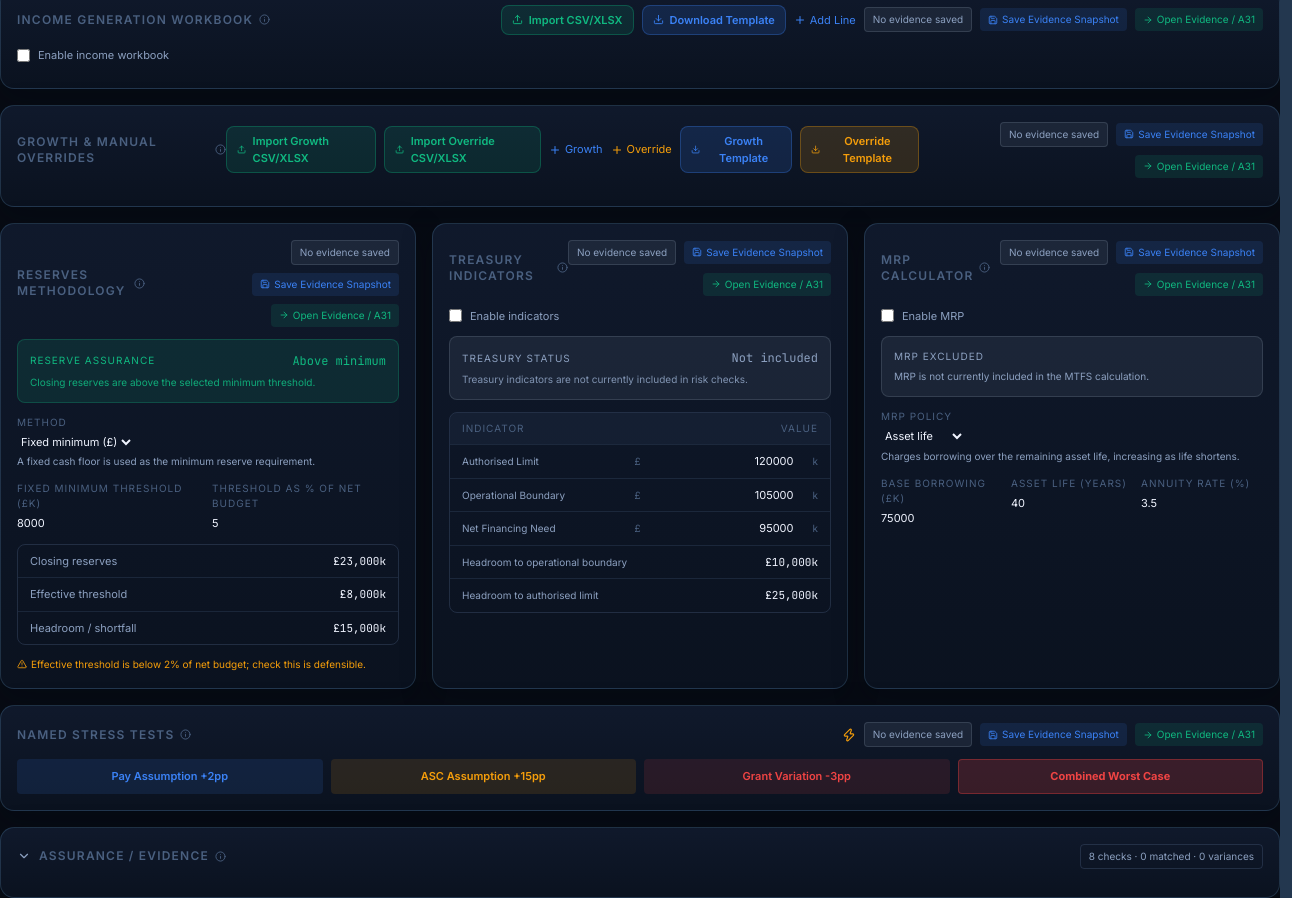
Test: EnhancementPanel helpers › moves source reconciliation behind assurance and advanced setup accordions
(page scrolled)
Check: the heading "Assurance / Evidence" is shown, box [39,848,209,864]
Check: the text "8 checks · 0 matched · 0 variances" is shown, box [1080,844,1263,869]
What coordinates should you click on to do the following:
click the button "Assurance / Evidence"
I would click on:
 (121, 856)
Its box is [17,848,226,864].
(page scrolled)
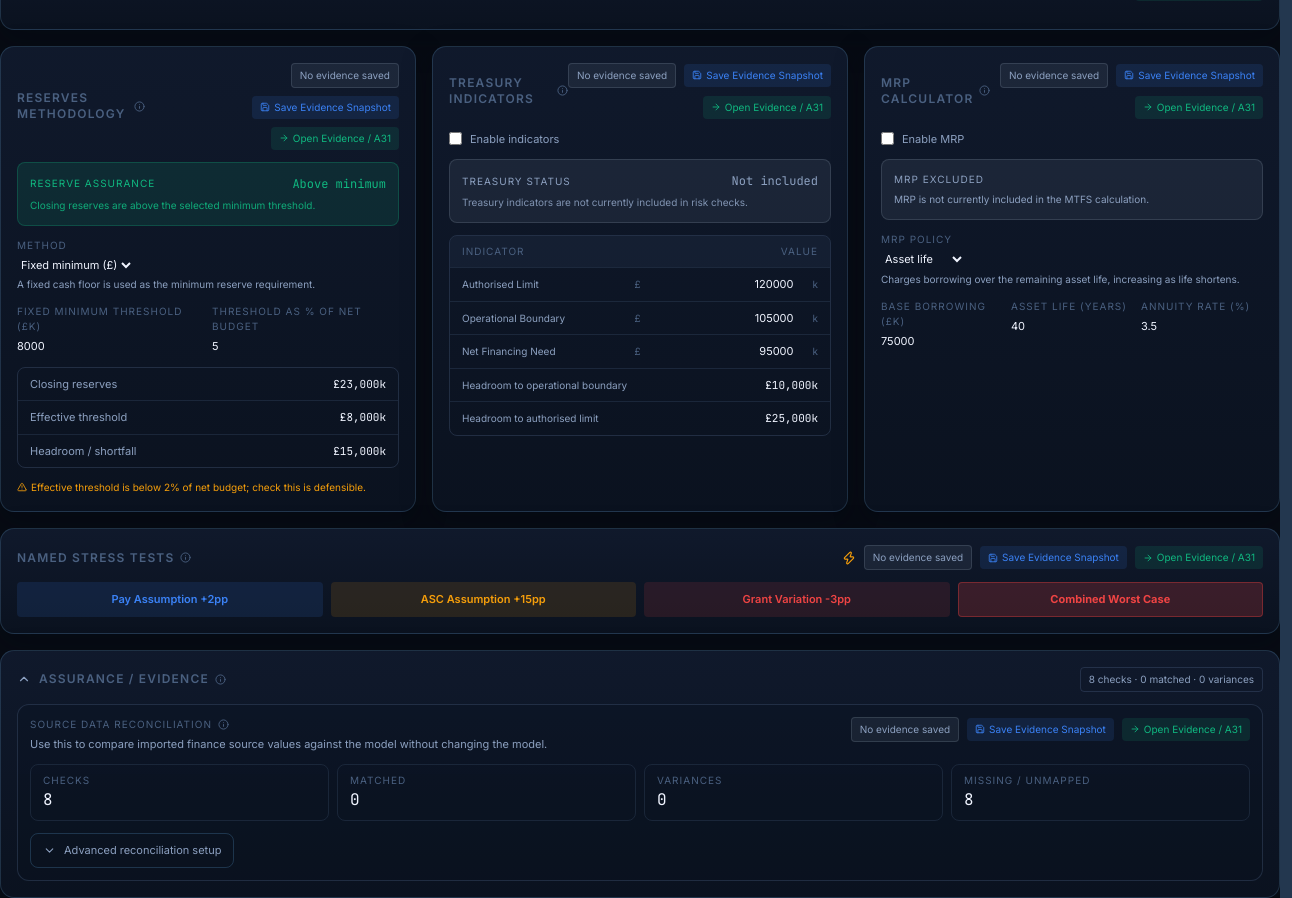
Check: the text "Source Data Reconciliation" is shown, box [30,717,212,732]
Check: the text "Use this to compare imported finance source values against the model without changing the model." is shown, box [30,737,547,751]
Check: the button "Advanced reconciliation setup" is shown
What coordinates should you click on to do the following:
click the button "Advanced reconciliation setup"
I would click on:
 (132, 851)
Its box is [30,833,234,868].
(page scrolled)
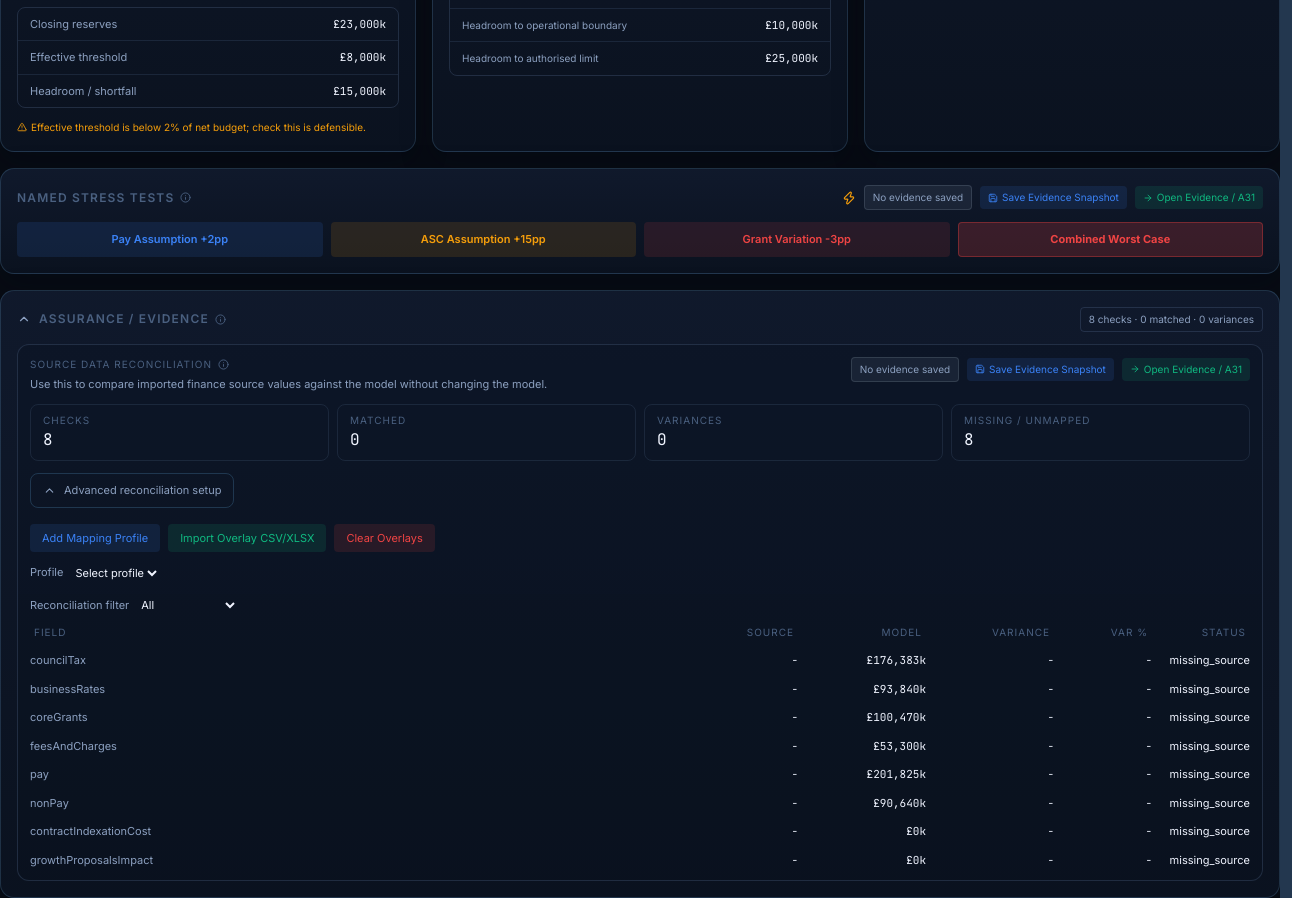
Check: the button "Add Mapping Profile" is shown, box [30,524,160,552]
Check: the file field labelled "Import Overlay CSV/XLSX" is shown, box [168,524,326,552]
Check: the text "Reconciliation filter" is shown, box [30,597,129,613]
